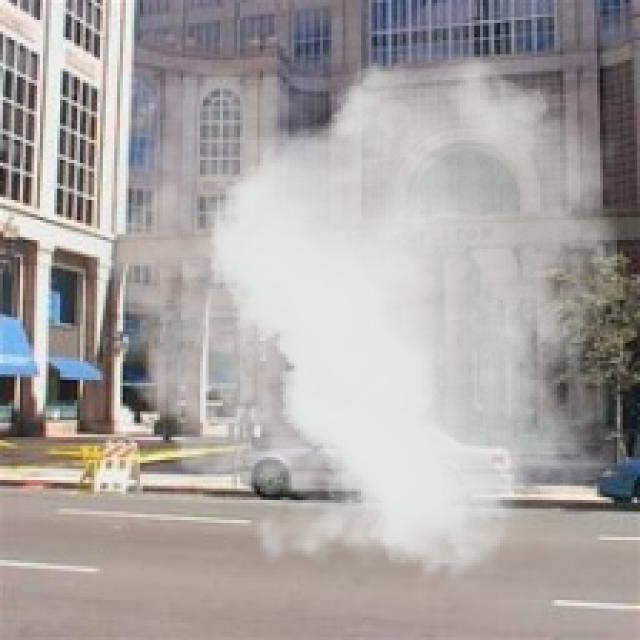Smoke: (65, 54, 618, 597)
